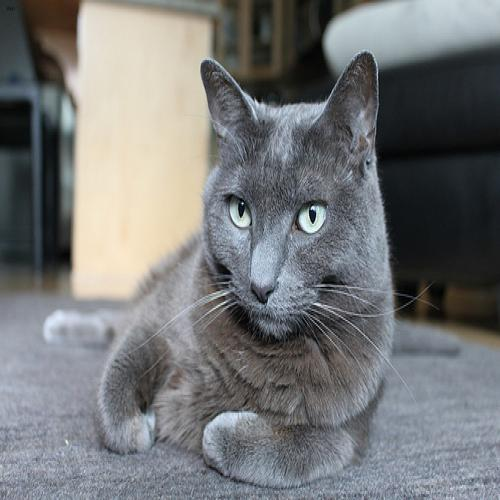rblue: (185, 33, 389, 349)
